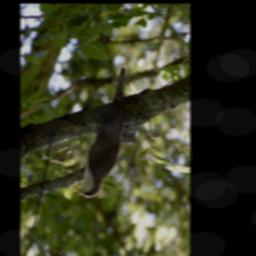Cuckoo: (72, 63, 130, 199)
